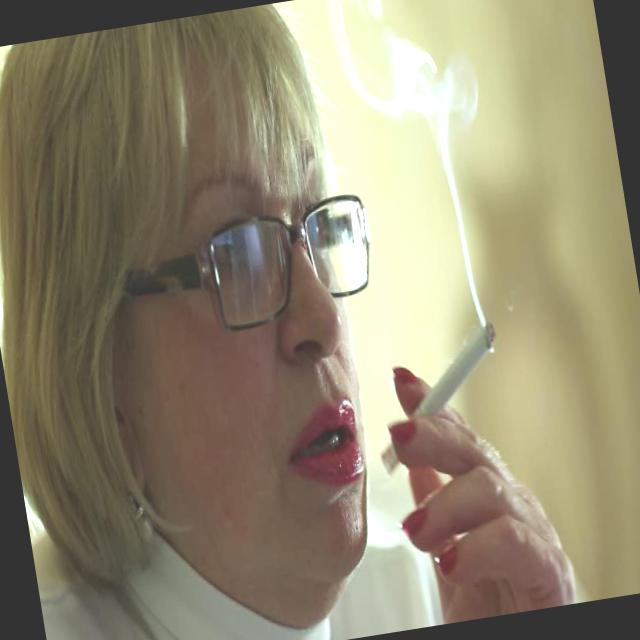smoke: (342, 283, 530, 507)
